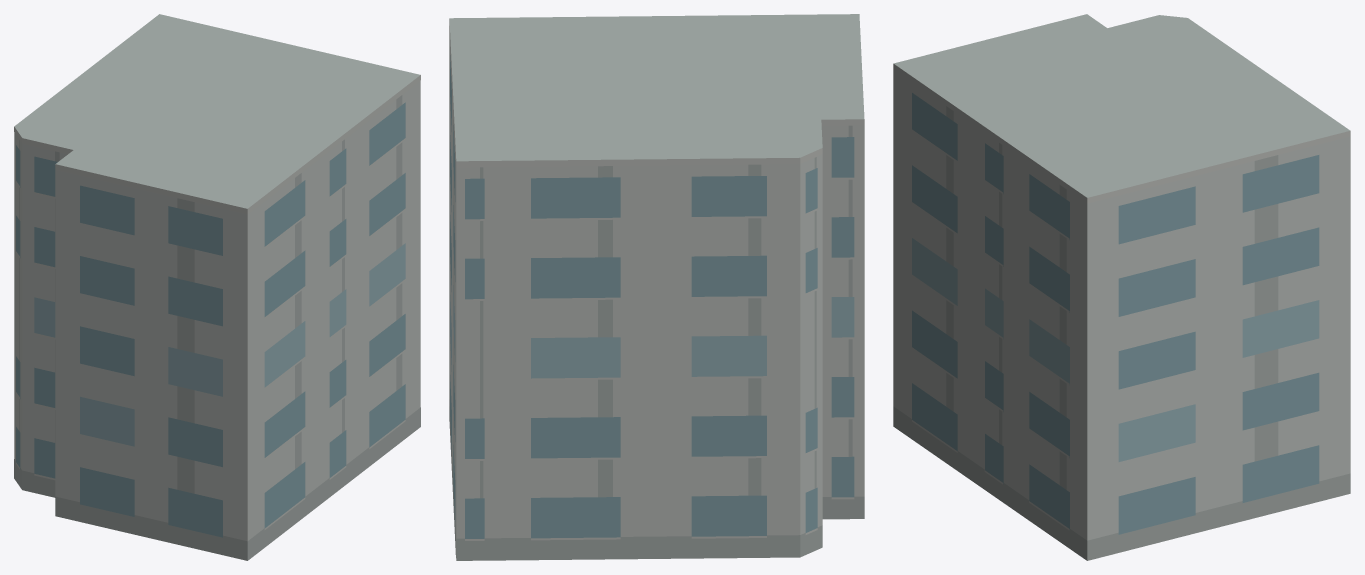
The model's file is survey-upis-33025344.glb.
3 views of the same model, side by side, from view 1: azimuth 30°, elevation 25°; view 2: azimuth 150°, elevation 25°; view 3: azimuth 270°, elevation 25° (orthographic). The views are drawn at different scales.
Parts seen in each view (by area): view 1: survey-upis-33025344.tmp; view 2: survey-upis-33025344.tmp; view 3: survey-upis-33025344.tmp.
Boxes of the visible parts, bbox=[...] form: survey-upis-33025344.tmp: bbox=[14, 14, 420, 560]; survey-upis-33025344.tmp: bbox=[449, 14, 864, 560]; survey-upis-33025344.tmp: bbox=[893, 14, 1350, 560].
Bounding box in the file's own units: 16.58 × 15.25 × 17.42.
